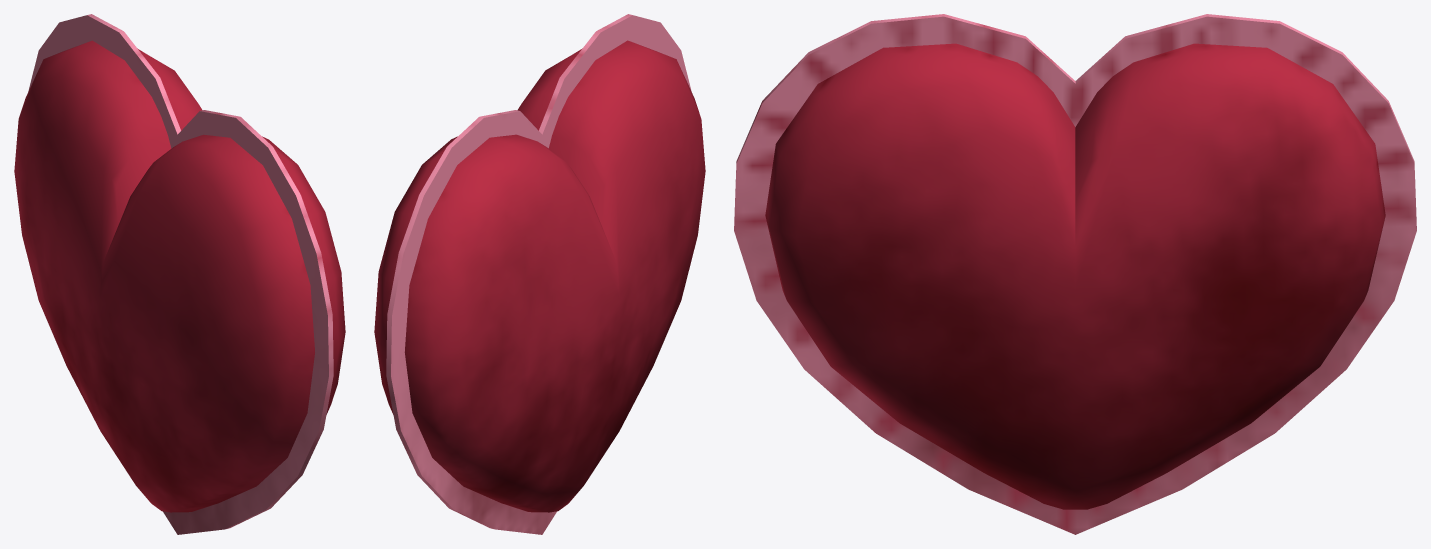
Rendered from Prop_082_Heartpillow.fbx.
3 views of the same model, side by side, from view 1: azimuth 30°, elevation 25°; view 2: azimuth 150°, elevation 25°; view 3: azimuth 270°, elevation 25° (orthographic). The views are drawn at different scales.
Parts seen in each view (by area): view 1: Prop_082_Heartpillow; view 2: Prop_082_Heartpillow; view 3: Prop_082_Heartpillow.
Part boxes in pixels (<box>): Prop_082_Heartpillow: <box>14,14,345,534</box>; Prop_082_Heartpillow: <box>374,14,705,534</box>; Prop_082_Heartpillow: <box>734,14,1416,534</box>.
Bounding box in the file's own units: 0.1327 × 0.365 × 0.4357.
1 material, 1 textured.
